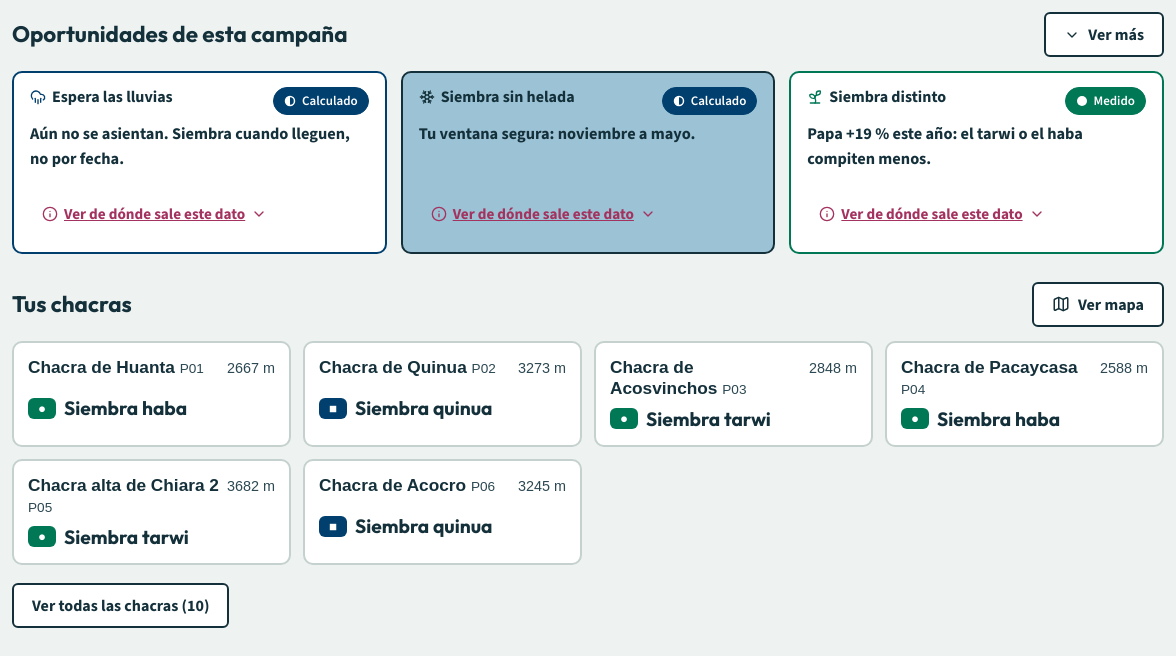
Test case: Contratos, UI/UX y honestidad MUYU (Vitest) › Cooperativa muestra máximo 3 oportunidades iniciales, 'Ver más' expande a todas y sin frases prohibidas
Expected: the number of elements with class "muyu-alert-card" is 3, [12, 71, 387, 254]; [401, 71, 775, 254]; [789, 71, 1164, 254]
What coordinates should you click on to do the following:
click the button "Ver más"
I would click on:
 (1104, 34)
Its box is [1044, 12, 1164, 57].
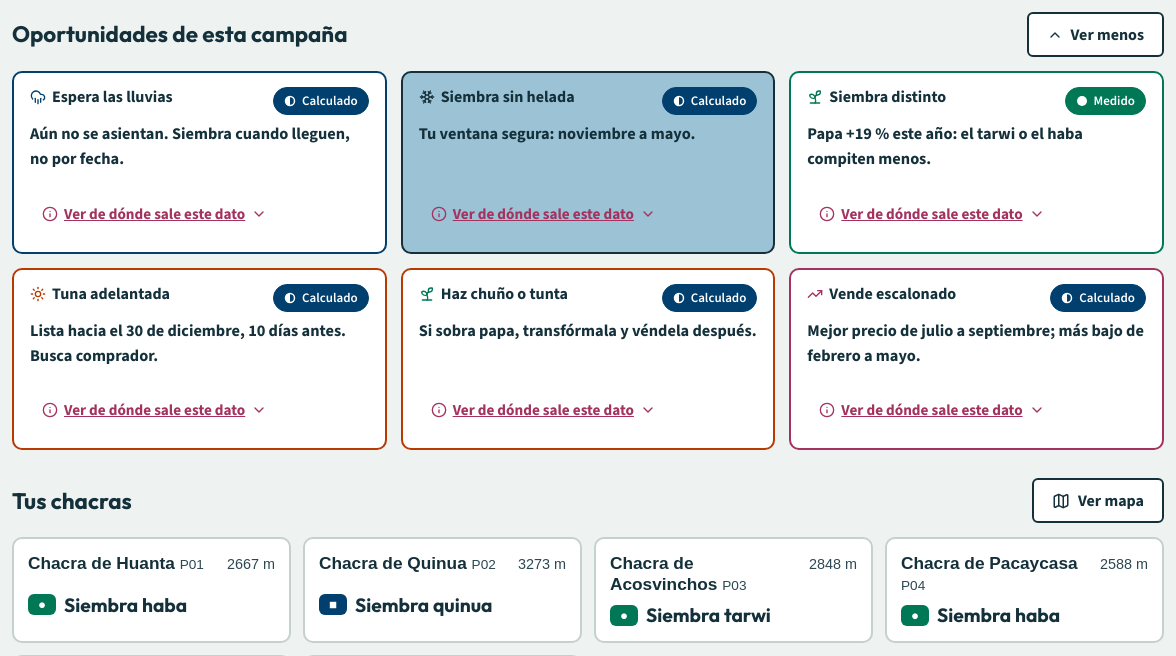
Expected: the number of elements with class "muyu-alert-card" is 6, [12, 71, 387, 254]; [401, 71, 775, 254]; [789, 71, 1164, 254]; [12, 268, 387, 450]; [401, 268, 775, 450]; [789, 268, 1164, 450]
